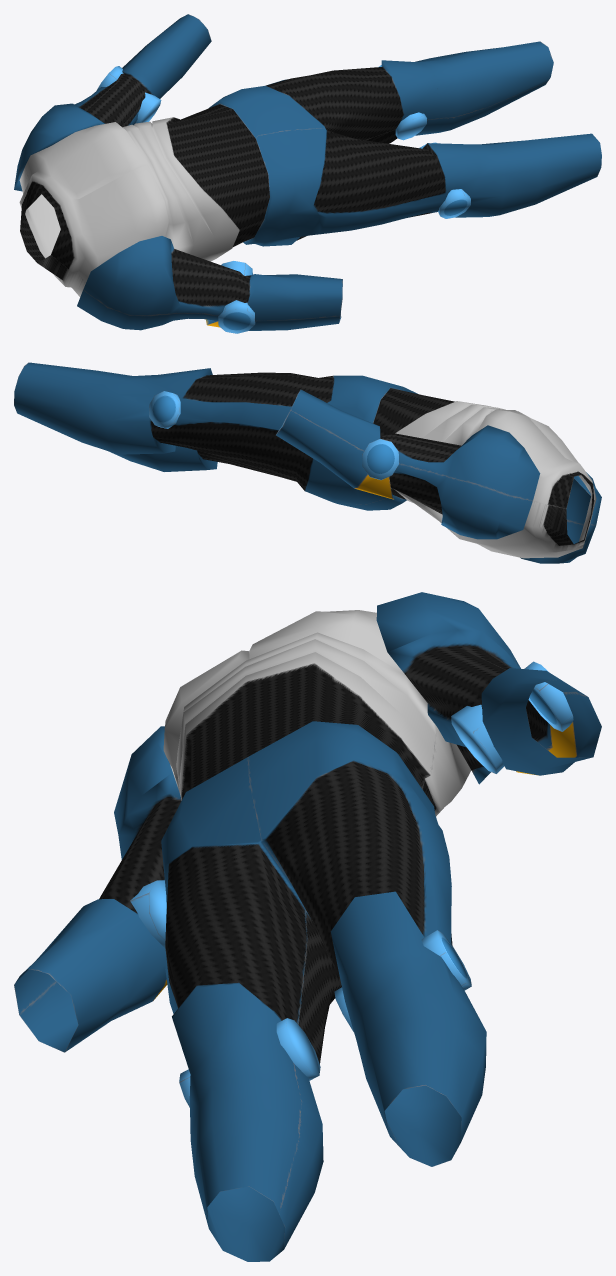
File: ArmorObject.fbx
3 renders of one model, top to bottom at view 1: azimuth 30°, elevation 25°; view 2: azimuth 150°, elevation 25°; view 3: azimuth 270°, elevation 25°, orthographic. The views are drawn at different scales.
Parts seen in each view (by area): view 1: Armature1; view 2: Armature1; view 3: Armature1.
Part boxes in pixels (x1=…): Armature1: x1=14, y1=14, x2=601, y2=333; Armature1: x1=14, y1=362, x2=601, y2=563; Armature1: x1=14, y1=592, x2=601, y2=1261.
Bounding box in the file's own units: 0.7489 × 0.2854 × 0.402.
1 material, 1 textured.
